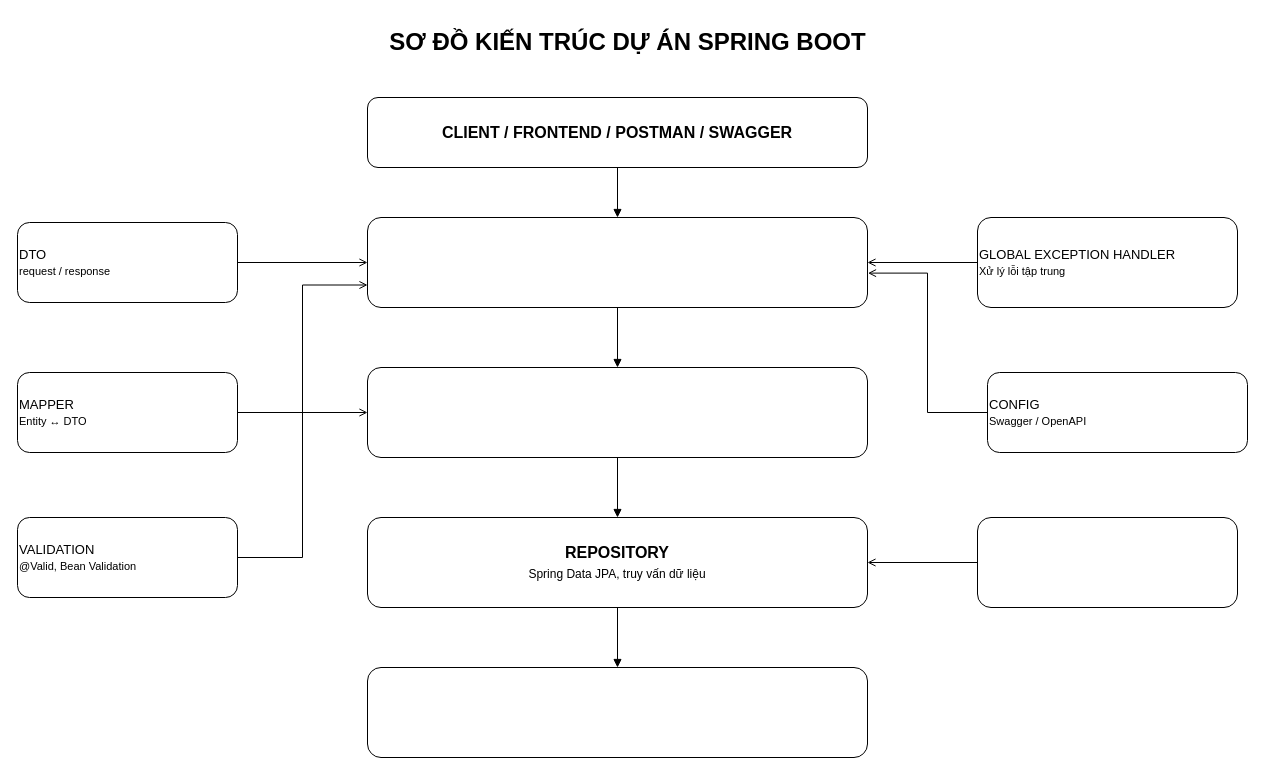
Image size: 1265x775. Some labels were removed from this diagram. The shapes that lost their labels are listed below. From the top down, each one's centre as x and y in pixels, then its label:
the point at 617,262: CONTROLLER Nhận HTTP request, validate DTO, trả HTTP response
the point at 617,412: SERVICE Xử lý nghiệp vụ, @Transactional, Dependency Injection
the point at 1107,562: ENTITY + ENUM Ánh xạ bảng và trạng thái
the point at 617,712: MICROSOFT SQL SERVER 2022 library_management
